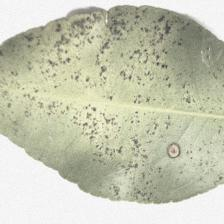canker: (57, 27, 191, 175)
